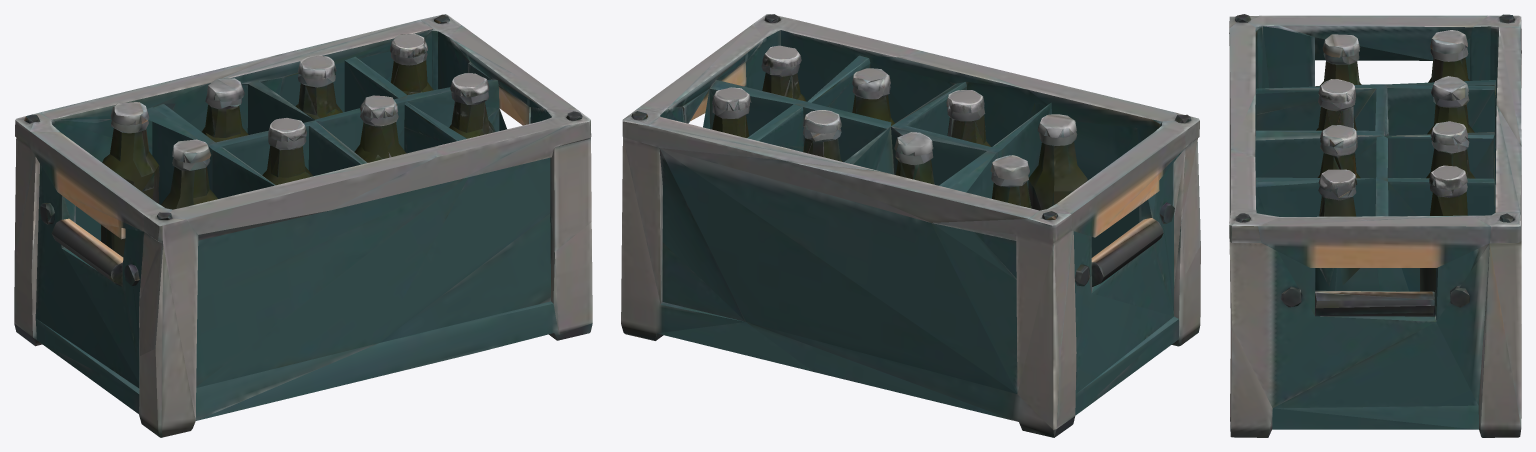
Rendered from bottleCrate.glb.
3 views of the same model, side by side, from view 1: azimuth 30°, elevation 25°; view 2: azimuth 150°, elevation 25°; view 3: azimuth 270°, elevation 25° (orthographic).
Visible parts, largest first — view 1: Mesh_0; view 2: Mesh_0; view 3: Mesh_0.
Boxes of the visible parts, x1,y1,x2,y2 form: Mesh_0: [14, 14, 592, 437]; Mesh_0: [621, 14, 1200, 437]; Mesh_0: [1229, 14, 1521, 437].
Bounding box in the file's own units: 0.5 × 0.25 × 0.2861.
Materials: 1 (1 with a texture image).
